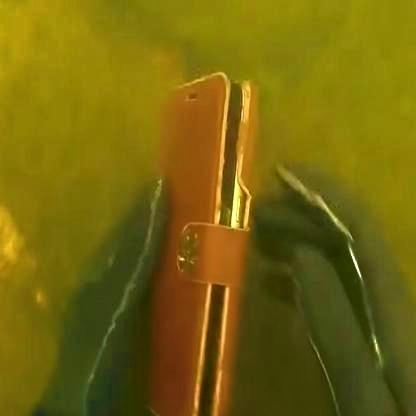electronics: (173, 61, 265, 402)
